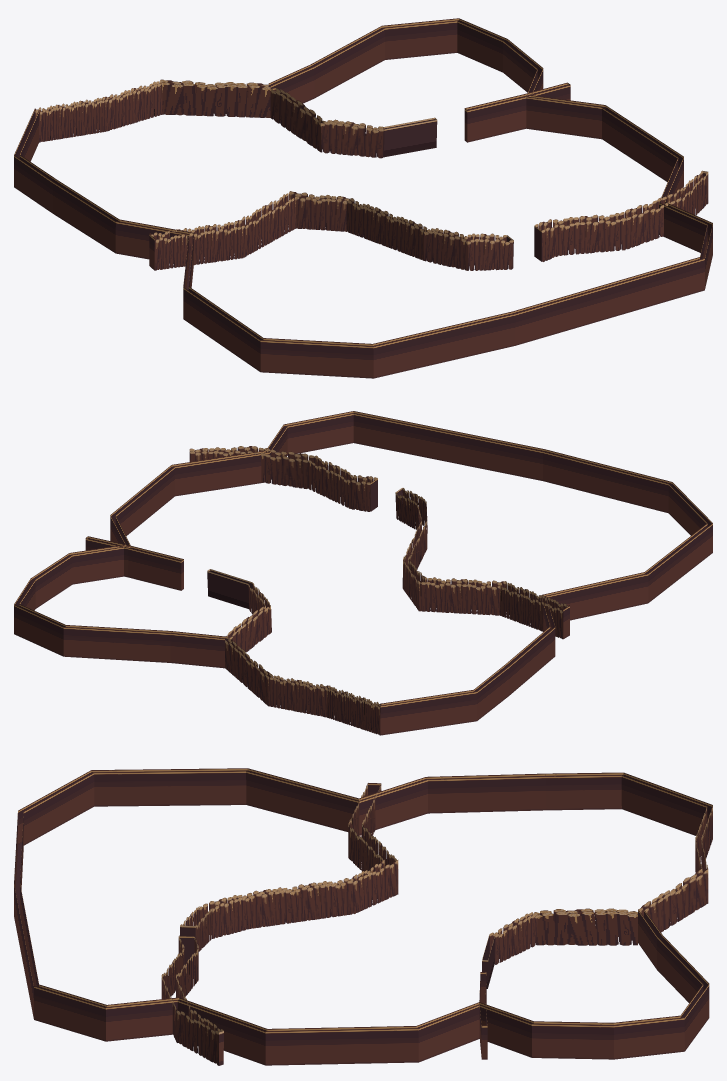
Rendered from WoodWall_Collider.fbx.
The picture shows the model from 3 angles, top to bottom: view 1: azimuth 30°, elevation 25°; view 2: azimuth 150°, elevation 25°; view 3: azimuth 270°, elevation 25°; orthographic projection. The views are drawn at different scales.
Parts seen in each view (by area): view 1: Cylinder002; view 2: Cylinder002; view 3: Cylinder002.
Boxes of the visible parts, x1,y1,x2,y2 form: Cylinder002: (14,18,712,378); Cylinder002: (14,411,712,735); Cylinder002: (14,768,712,1065).
Bounding box in the file's own units: 136 × 9.27 × 152.
1 material, 1 textured.
